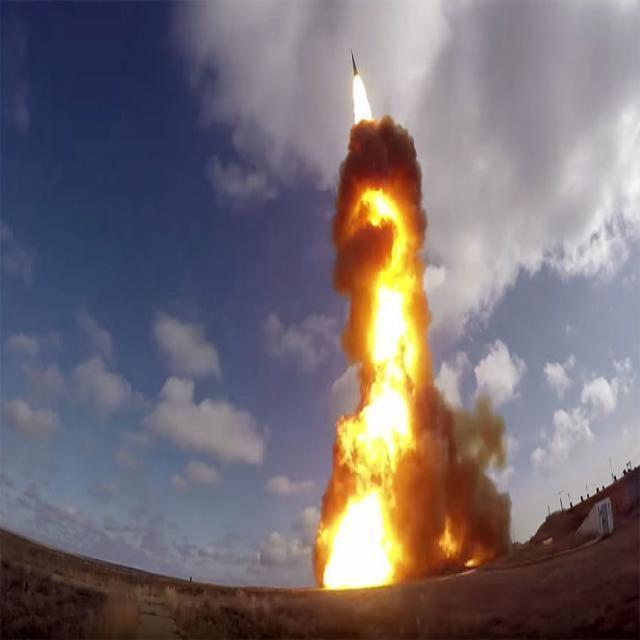Missile: (348, 44, 361, 80)
